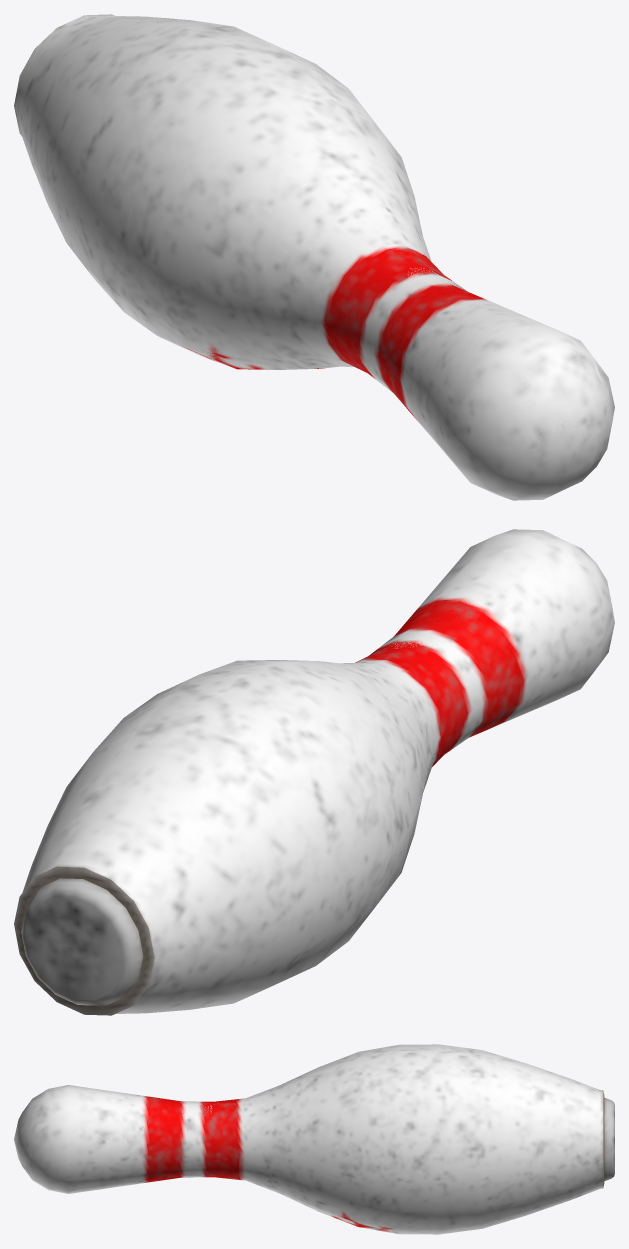
File: bowling-pins-3ce55f.glb
3 views of the same model, one above another, from view 1: azimuth 30°, elevation 25°; view 2: azimuth 150°, elevation 25°; view 3: azimuth 270°, elevation 25° (orthographic). The views are drawn at different scales.
Visible parts, largest first — view 1: PropMesh; view 2: PropMesh; view 3: PropMesh.
Part boxes in pixels (x1=…): PropMesh: x1=14, y1=14, x2=614, y2=500; PropMesh: x1=14, y1=529, x2=614, y2=1015; PropMesh: x1=14, y1=1044, x2=614, y2=1234.
Bounding box in the file's own units: 0.35 × 0.35 × 1.11.
1 material, 1 textured.
